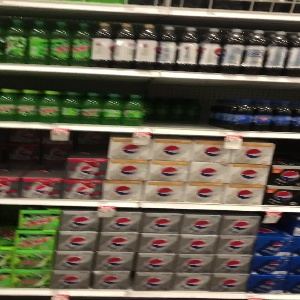void: (145, 80, 226, 130)
